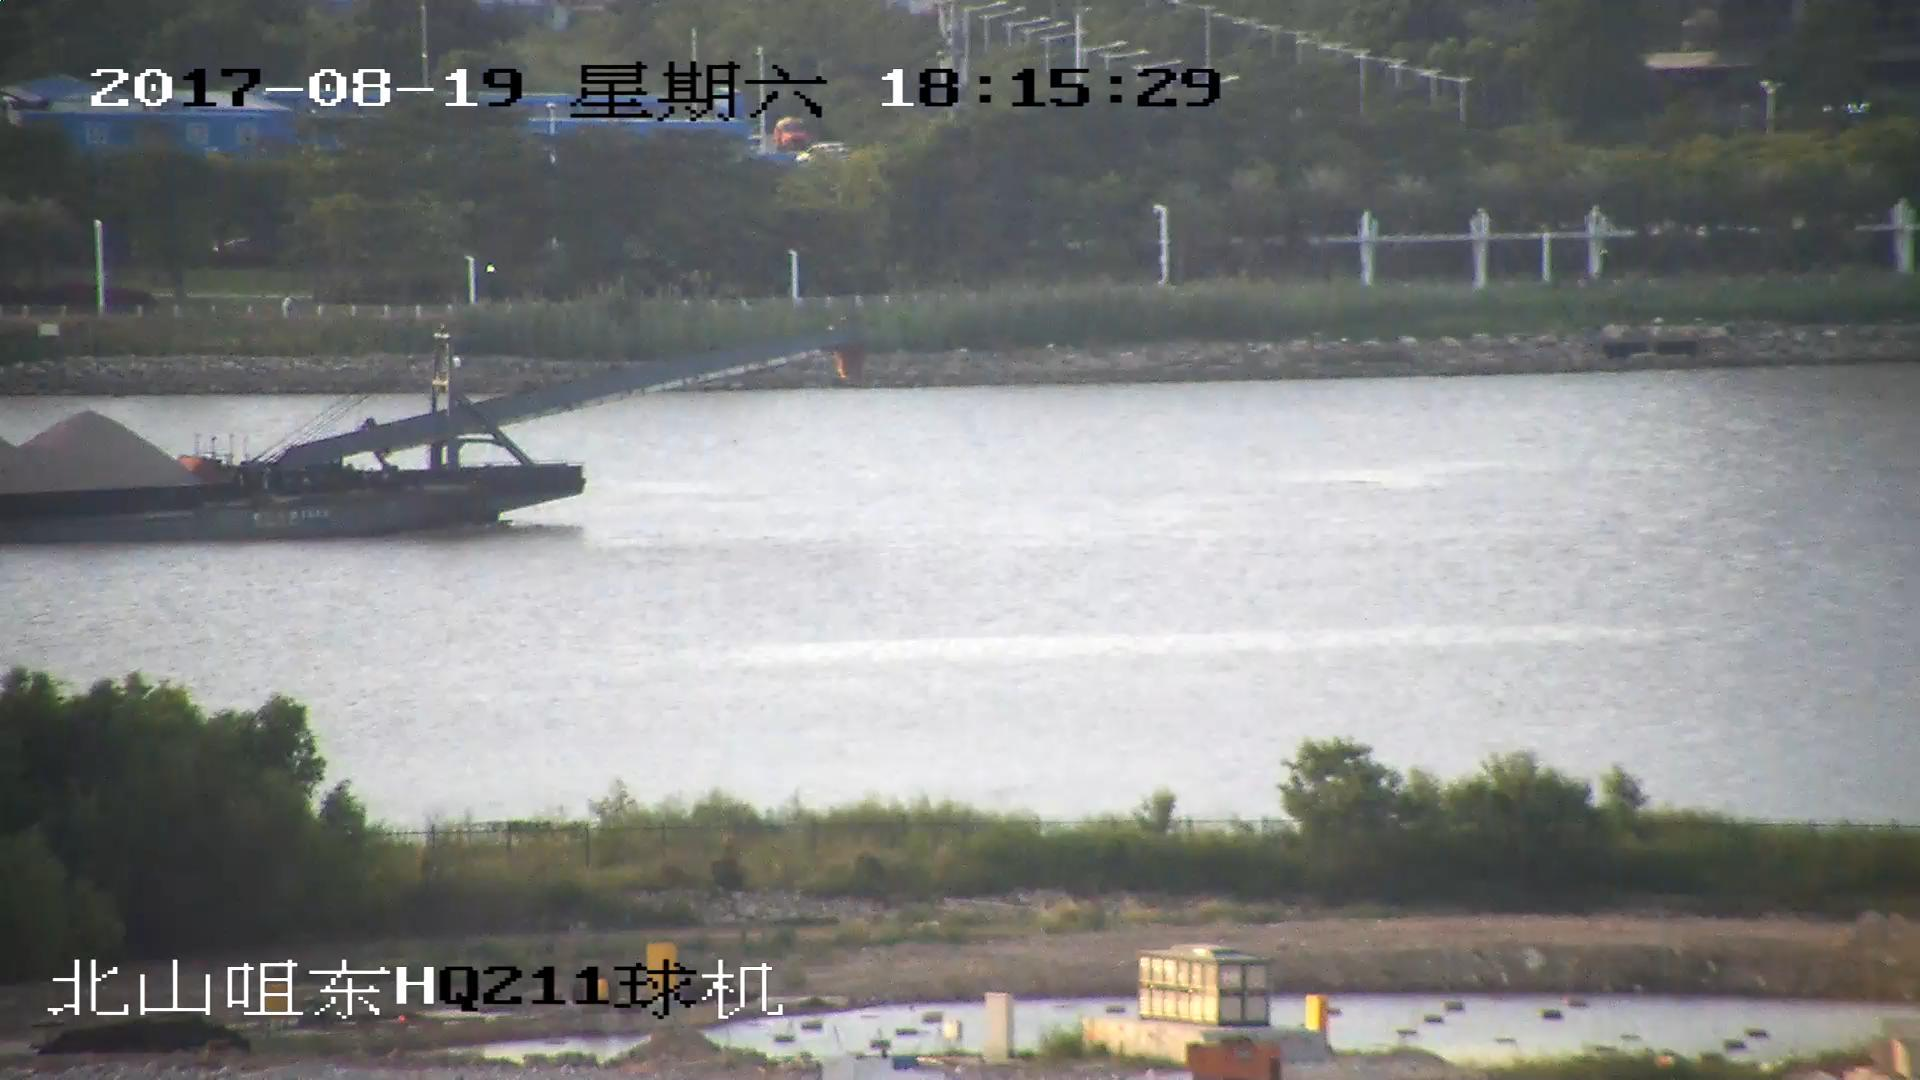Ship: (3, 320, 853, 545)
